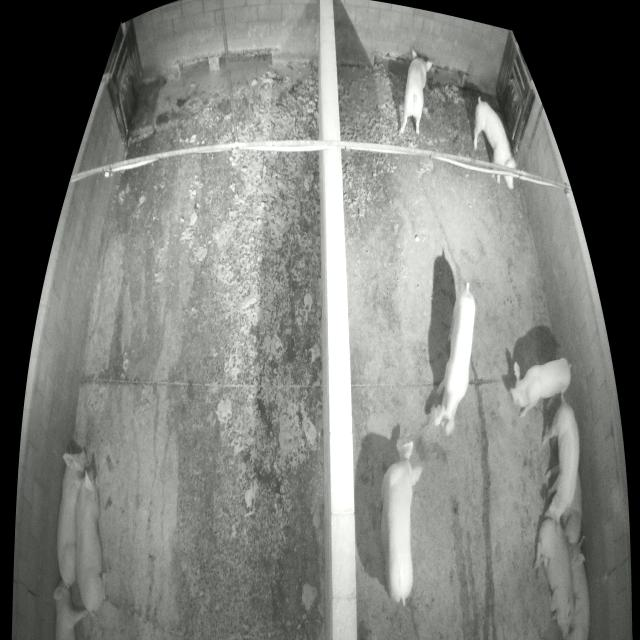pig: (374, 437, 424, 604), (530, 519, 582, 637), (435, 291, 475, 437), (75, 466, 107, 614), (56, 449, 88, 588), (542, 404, 579, 521), (473, 102, 517, 189), (509, 358, 570, 420), (398, 46, 433, 135), (568, 535, 590, 639), (53, 579, 88, 638), (563, 470, 582, 542)
